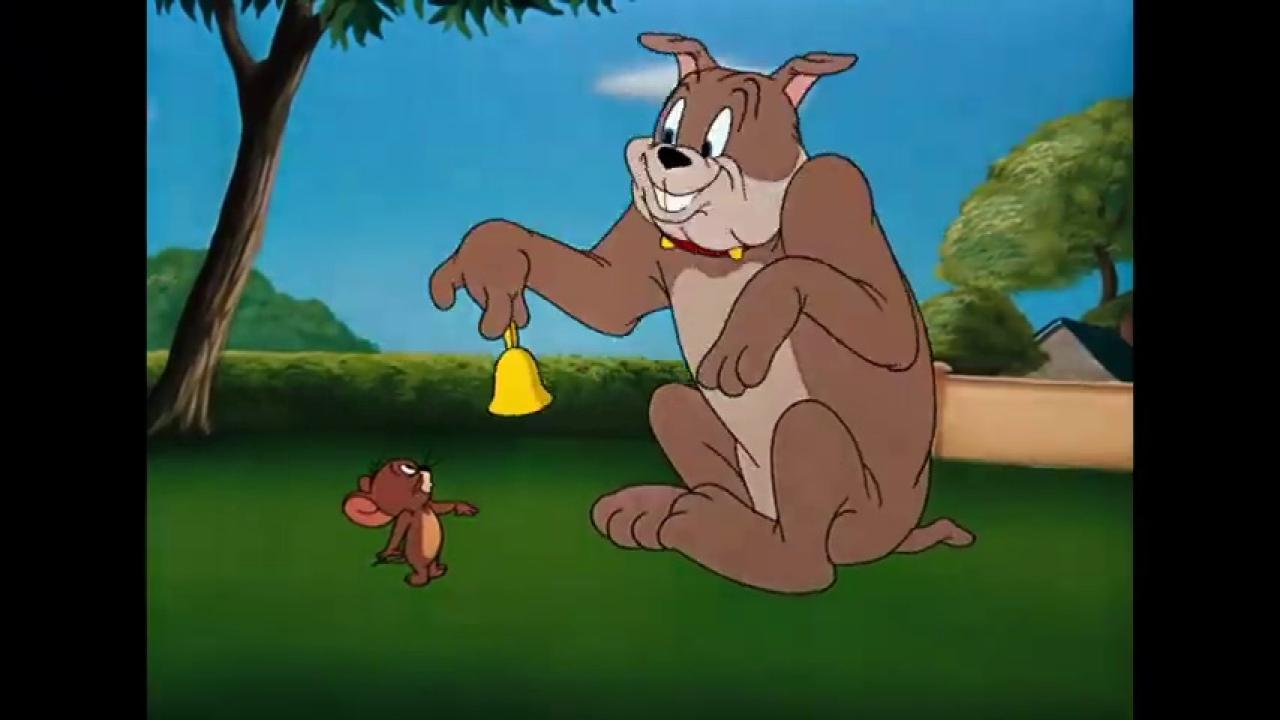Jerry: (341, 454, 482, 590)
